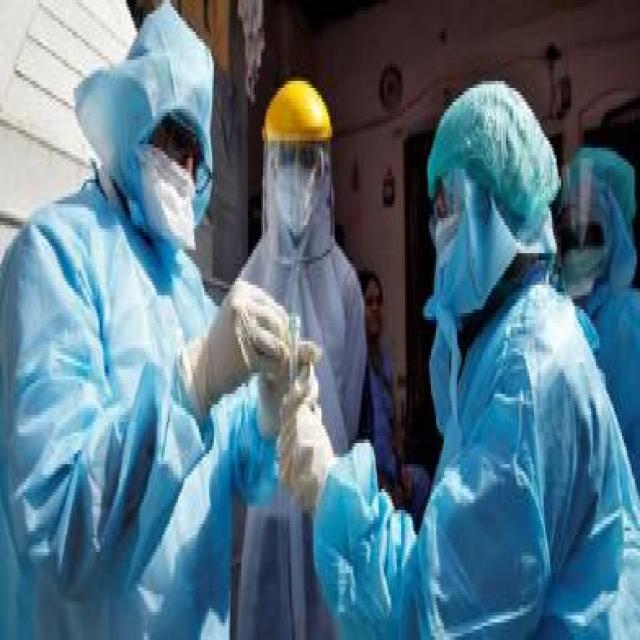Coverall: (315, 74, 638, 633), (230, 71, 364, 630), (559, 144, 639, 429)
Gloves: (186, 275, 287, 412), (256, 338, 320, 440), (280, 401, 332, 510)
Goggles: (555, 207, 609, 271), (275, 144, 324, 190)
Mask: (141, 141, 195, 250), (273, 158, 317, 232), (562, 239, 606, 296), (431, 215, 459, 267)
